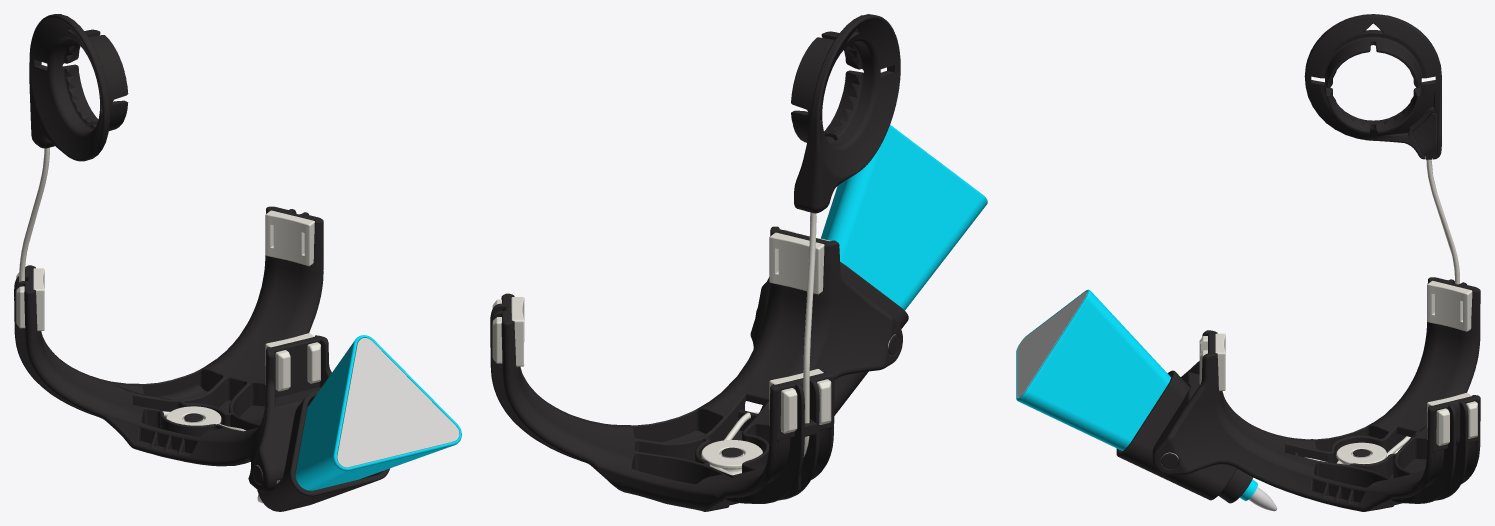
File: dash_pen.glb
3 renders of one model, left to right at view 1: azimuth 30°, elevation 25°; view 2: azimuth 150°, elevation 25°; view 3: azimuth 270°, elevation 25°, orthographic. The views are drawn at different scales.
Visible parts, largest first — view 1: penHolder; view 2: penHolder; view 3: penHolder.
Part boxes in pixels (x1=…): penHolder: x1=14, y1=14, x2=461, y2=511; penHolder: x1=490, y1=14, x2=987, y2=511; penHolder: x1=1016, y1=14, x2=1480, y2=511.
Bounding box in the file's own units: 0.9182 × 1.38 × 1.33.
